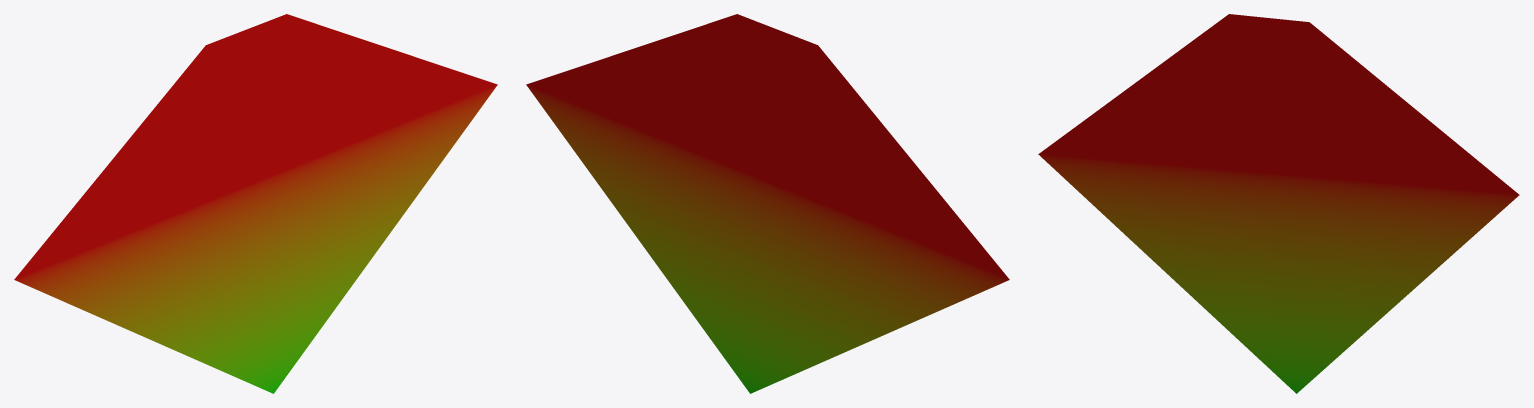
Rendered from Small Balsam_LOD6_Var2_xefmcgrqx.fbx.
3 renders of one model, left to right at view 1: azimuth 30°, elevation 25°; view 2: azimuth 150°, elevation 25°; view 3: azimuth 330°, elevation 25°, orthographic.
Parts seen in each view (by area): view 1: _jhid_Var2_LOD6; view 2: _jhid_Var2_LOD6; view 3: _jhid_Var2_LOD6.
Part boxes in pixels (<box>): _jhid_Var2_LOD6: <box>14,14,497,393</box>; _jhid_Var2_LOD6: <box>526,14,1009,393</box>; _jhid_Var2_LOD6: <box>1038,14,1519,393</box>.
Bounding box in the file's own units: 39.93 × 29.72 × 1.3e-06.
